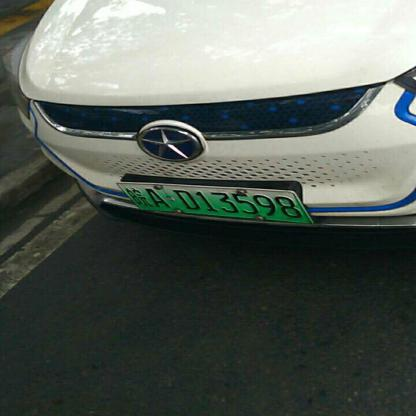lp: (115, 183, 311, 224)
